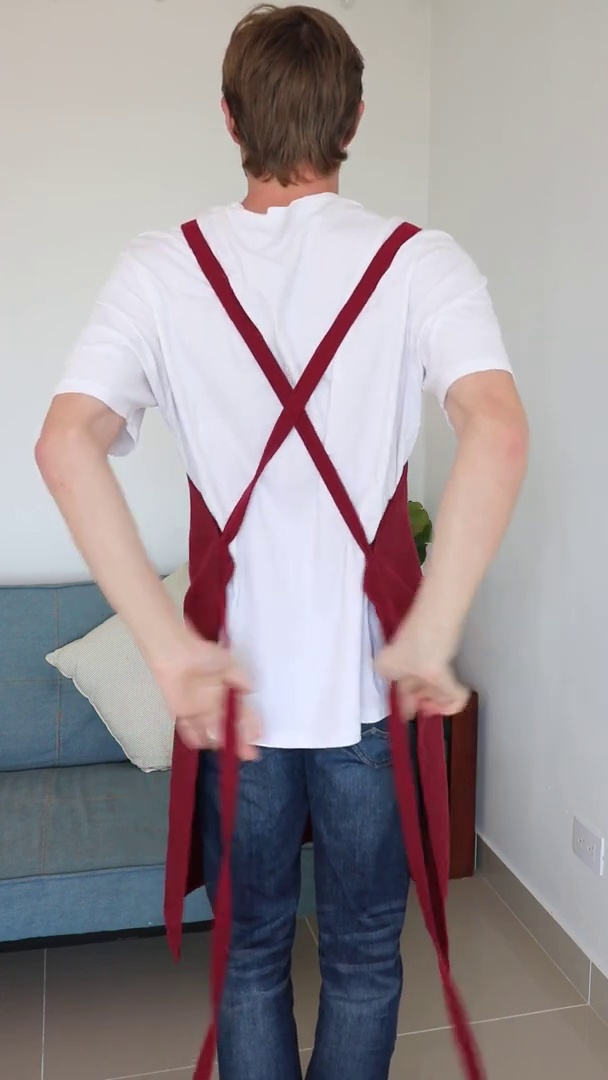Apron: (180, 210, 428, 741)
No_Glove: (156, 635, 252, 759), (383, 630, 457, 714)
No_Hairnet: (222, 5, 371, 190)
